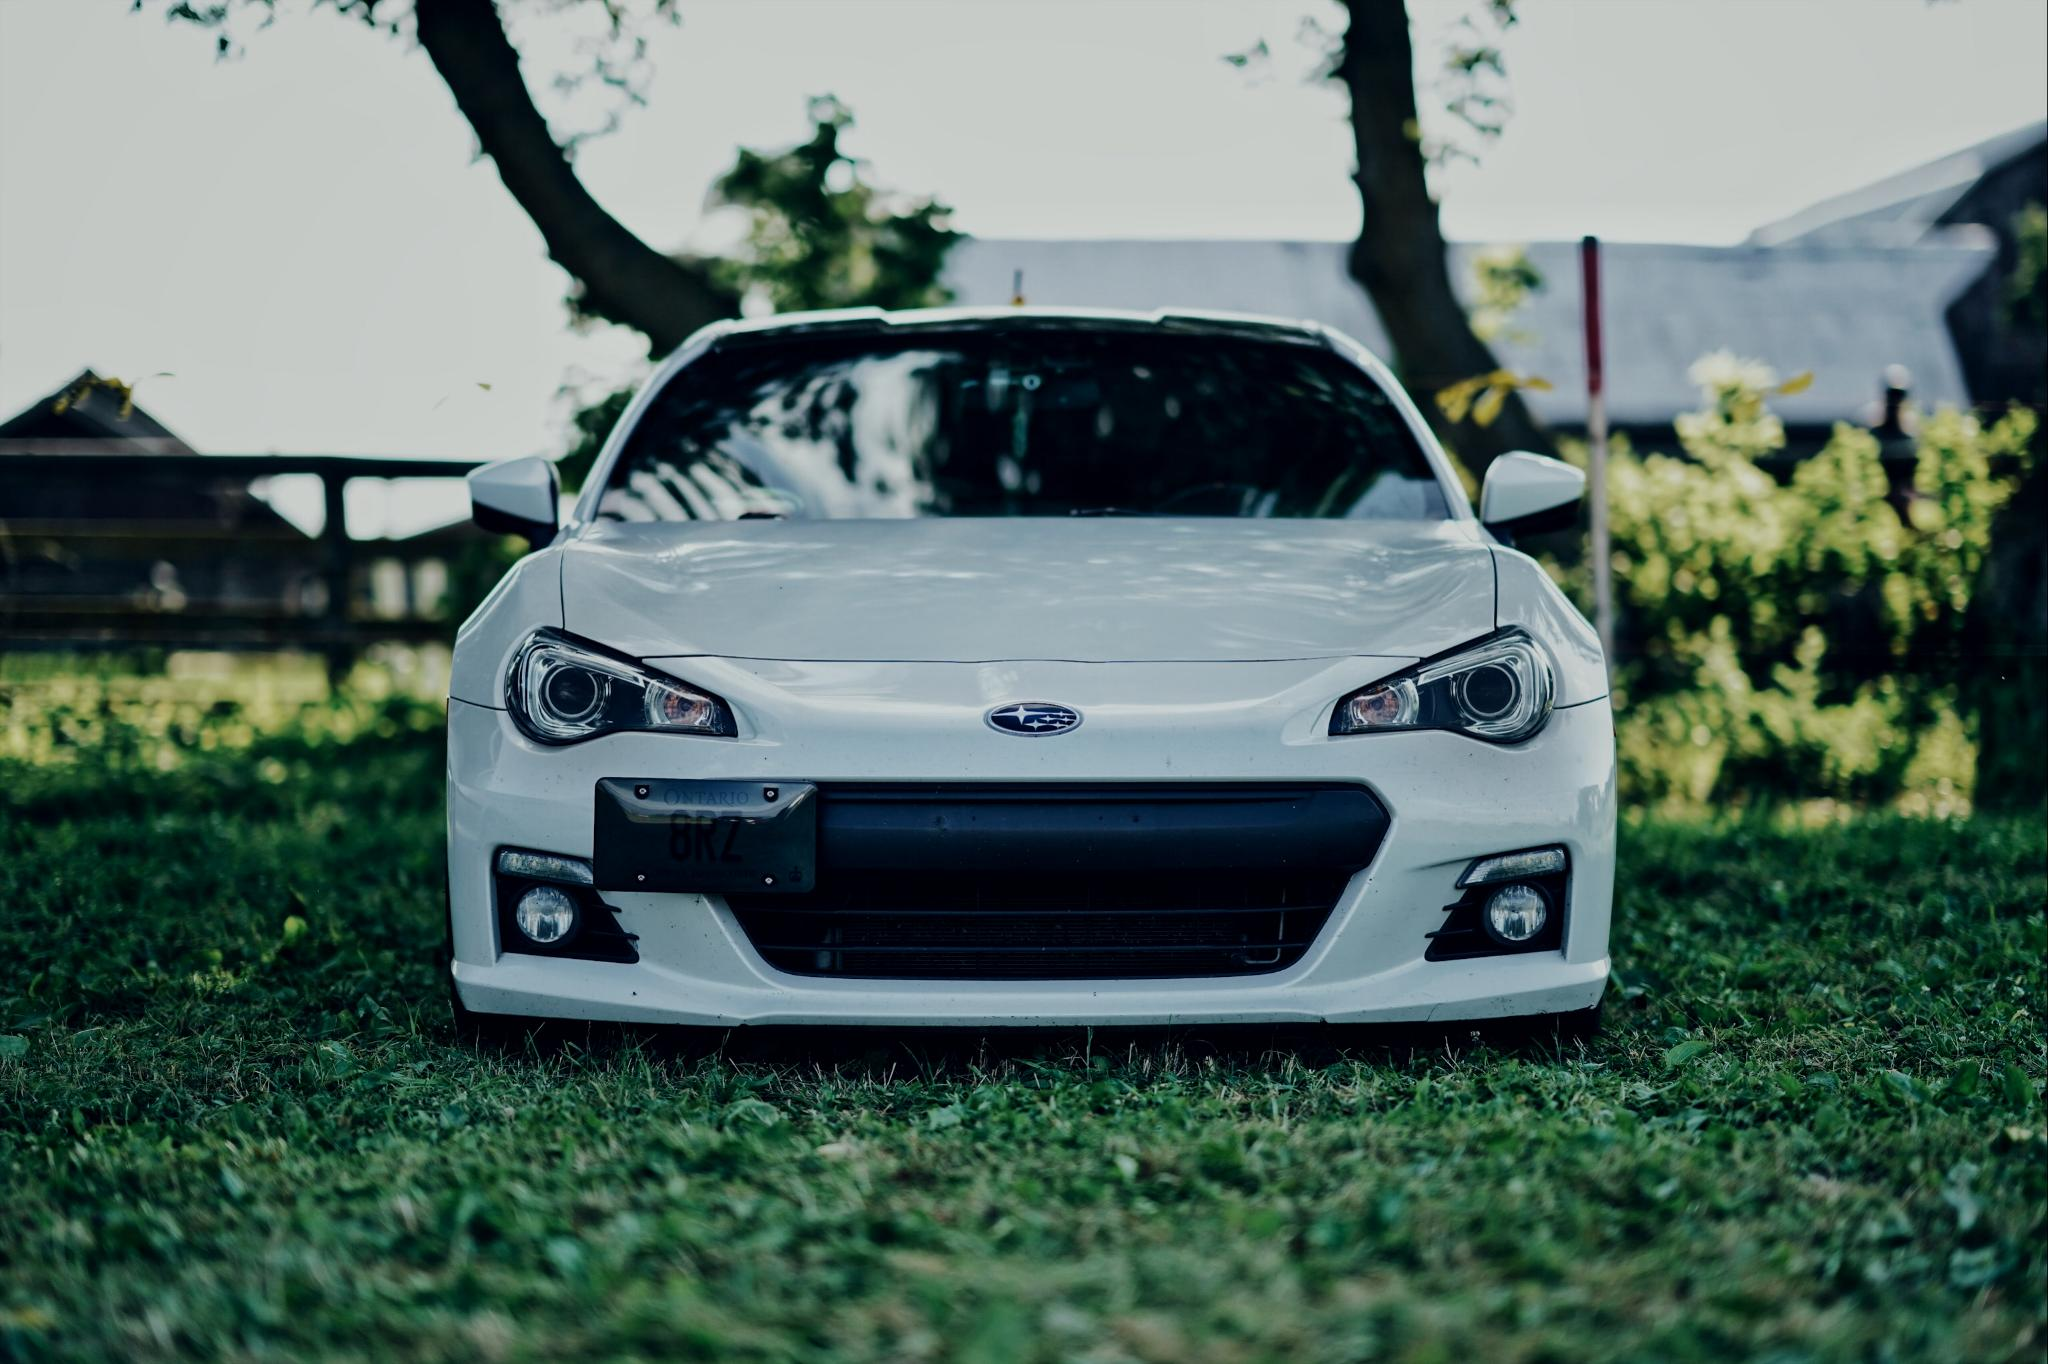subaru: (948, 674, 1118, 773)
